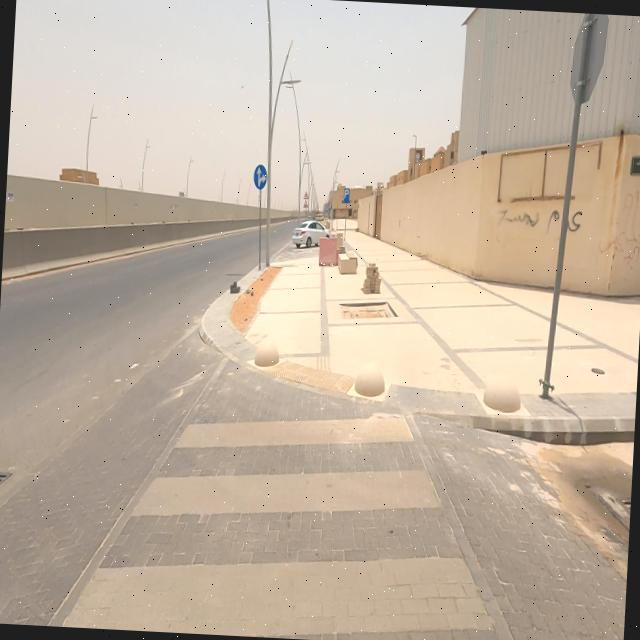Graffiti: (597, 185, 640, 268), (497, 206, 584, 241)
